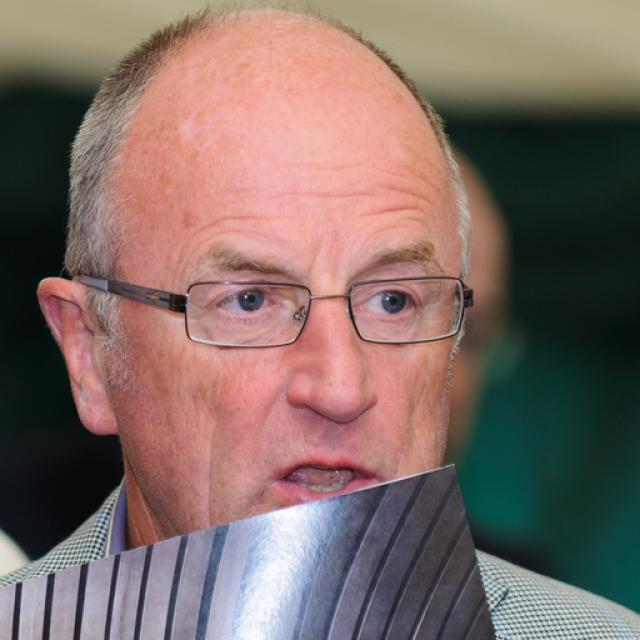surprise: (118, 82, 464, 540)
